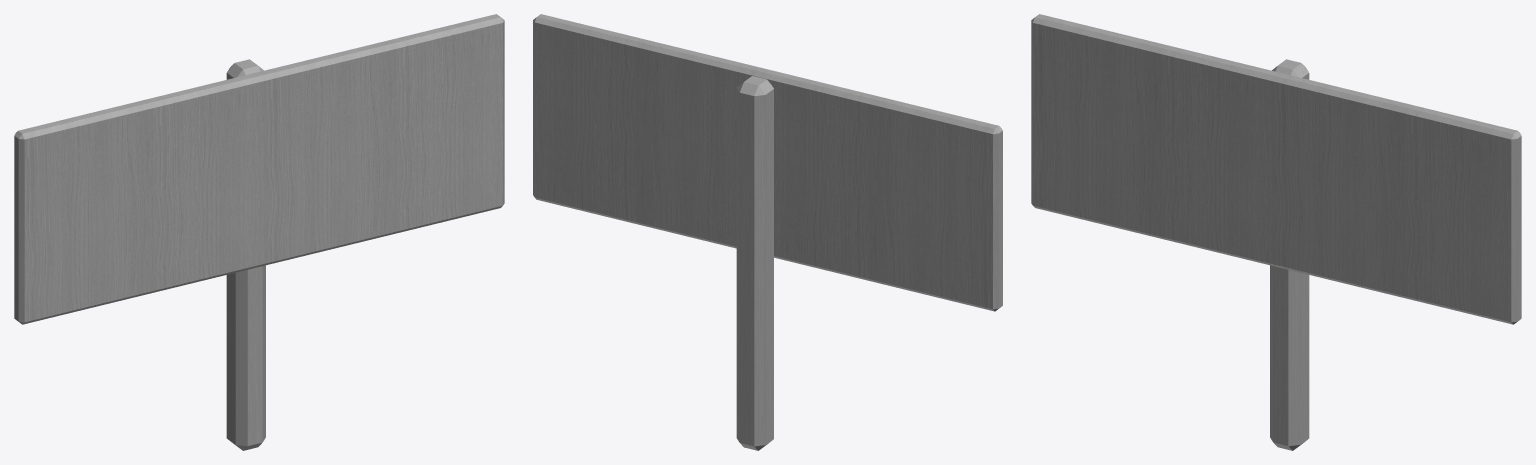
The model's file is Sign.fbx.
3 renders of one model, left to right at view 1: azimuth 30°, elevation 25°; view 2: azimuth 150°, elevation 25°; view 3: azimuth 330°, elevation 25°, orthographic. The views are drawn at different scales.
Visible parts, largest first — view 1: pCube3; view 2: pCube3; view 3: pCube3.
Part boxes in pixels (x1=…): pCube3: x1=14, y1=14, x2=504, y2=450; pCube3: x1=533, y1=14, x2=1002, y2=450; pCube3: x1=1031, y1=14, x2=1521, y2=450.
Size of the model in its own units: 8 by 6 by 0.75.
Materials: 1 (1 with a texture image).
